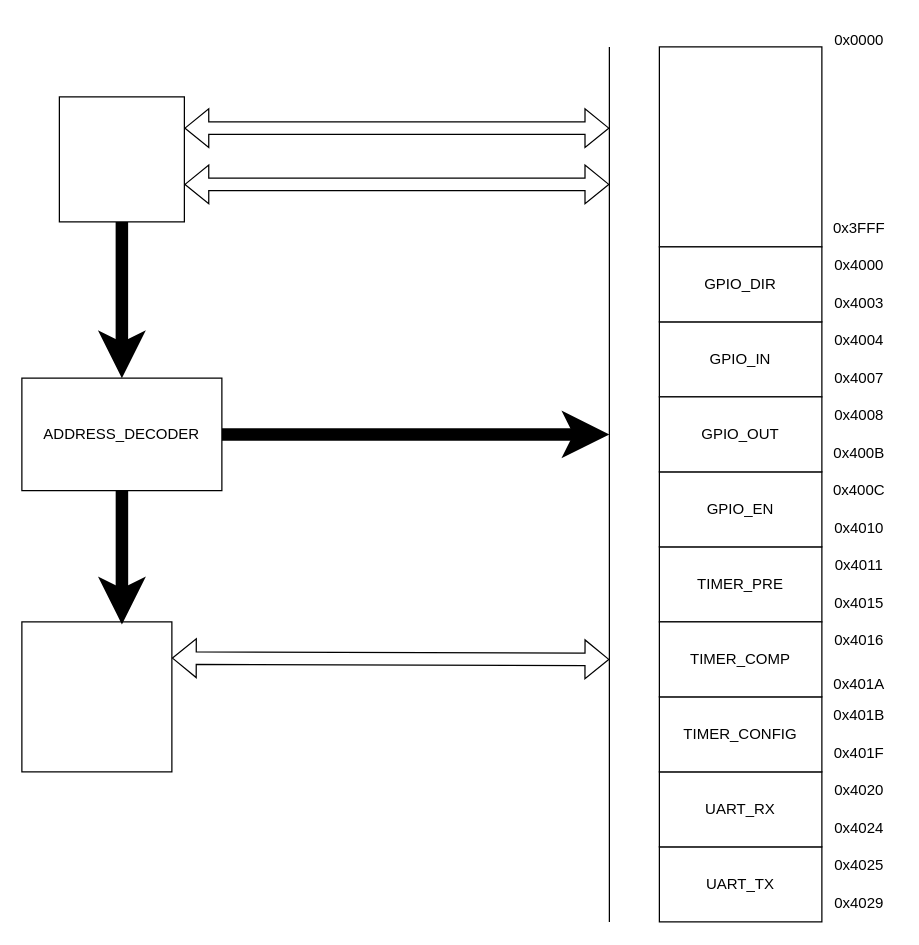
The diagram is 919 pixels wide and 945 high, and some of its shapes have lost their labels. The shapes that lost their labels are listed below. From the top down, each one's centre as x and y in pixels, then its label:
point (121, 159): MIPS 32 Core
point (740, 146): Data Memory
point (96, 696): TIMER
